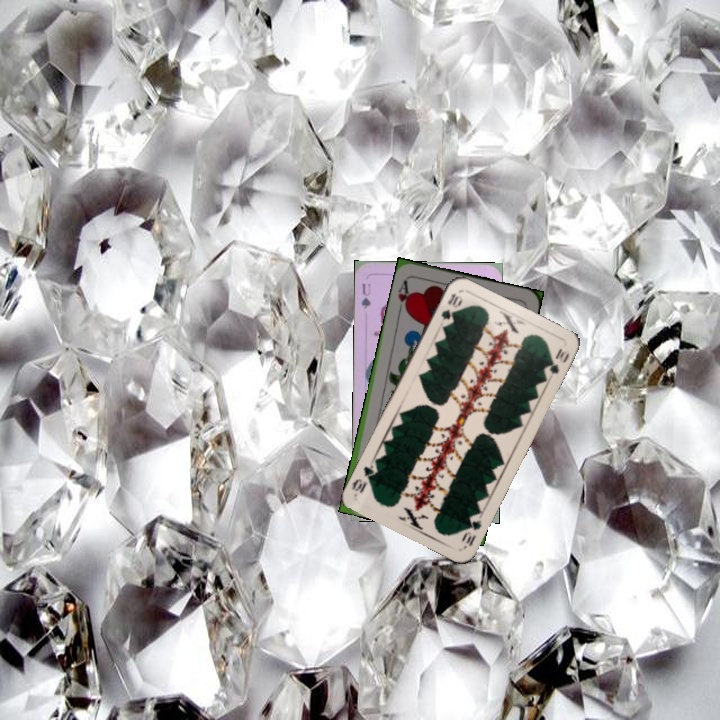G10: (457, 510, 485, 549), (437, 289, 464, 323)
GU: (357, 279, 373, 312)
HA: (394, 276, 414, 315)
